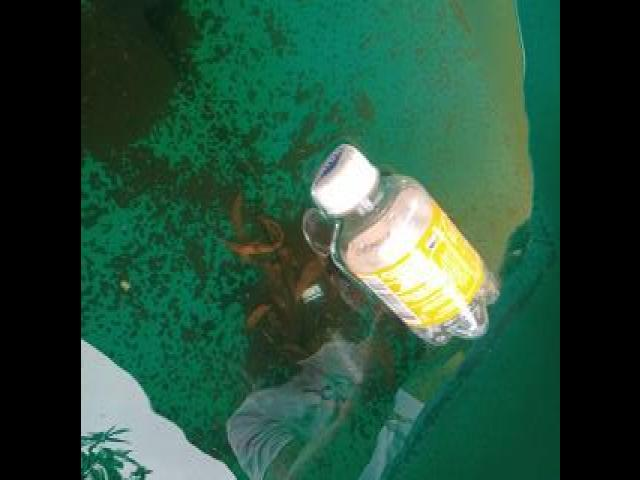Bottle: (304, 133, 506, 353)
